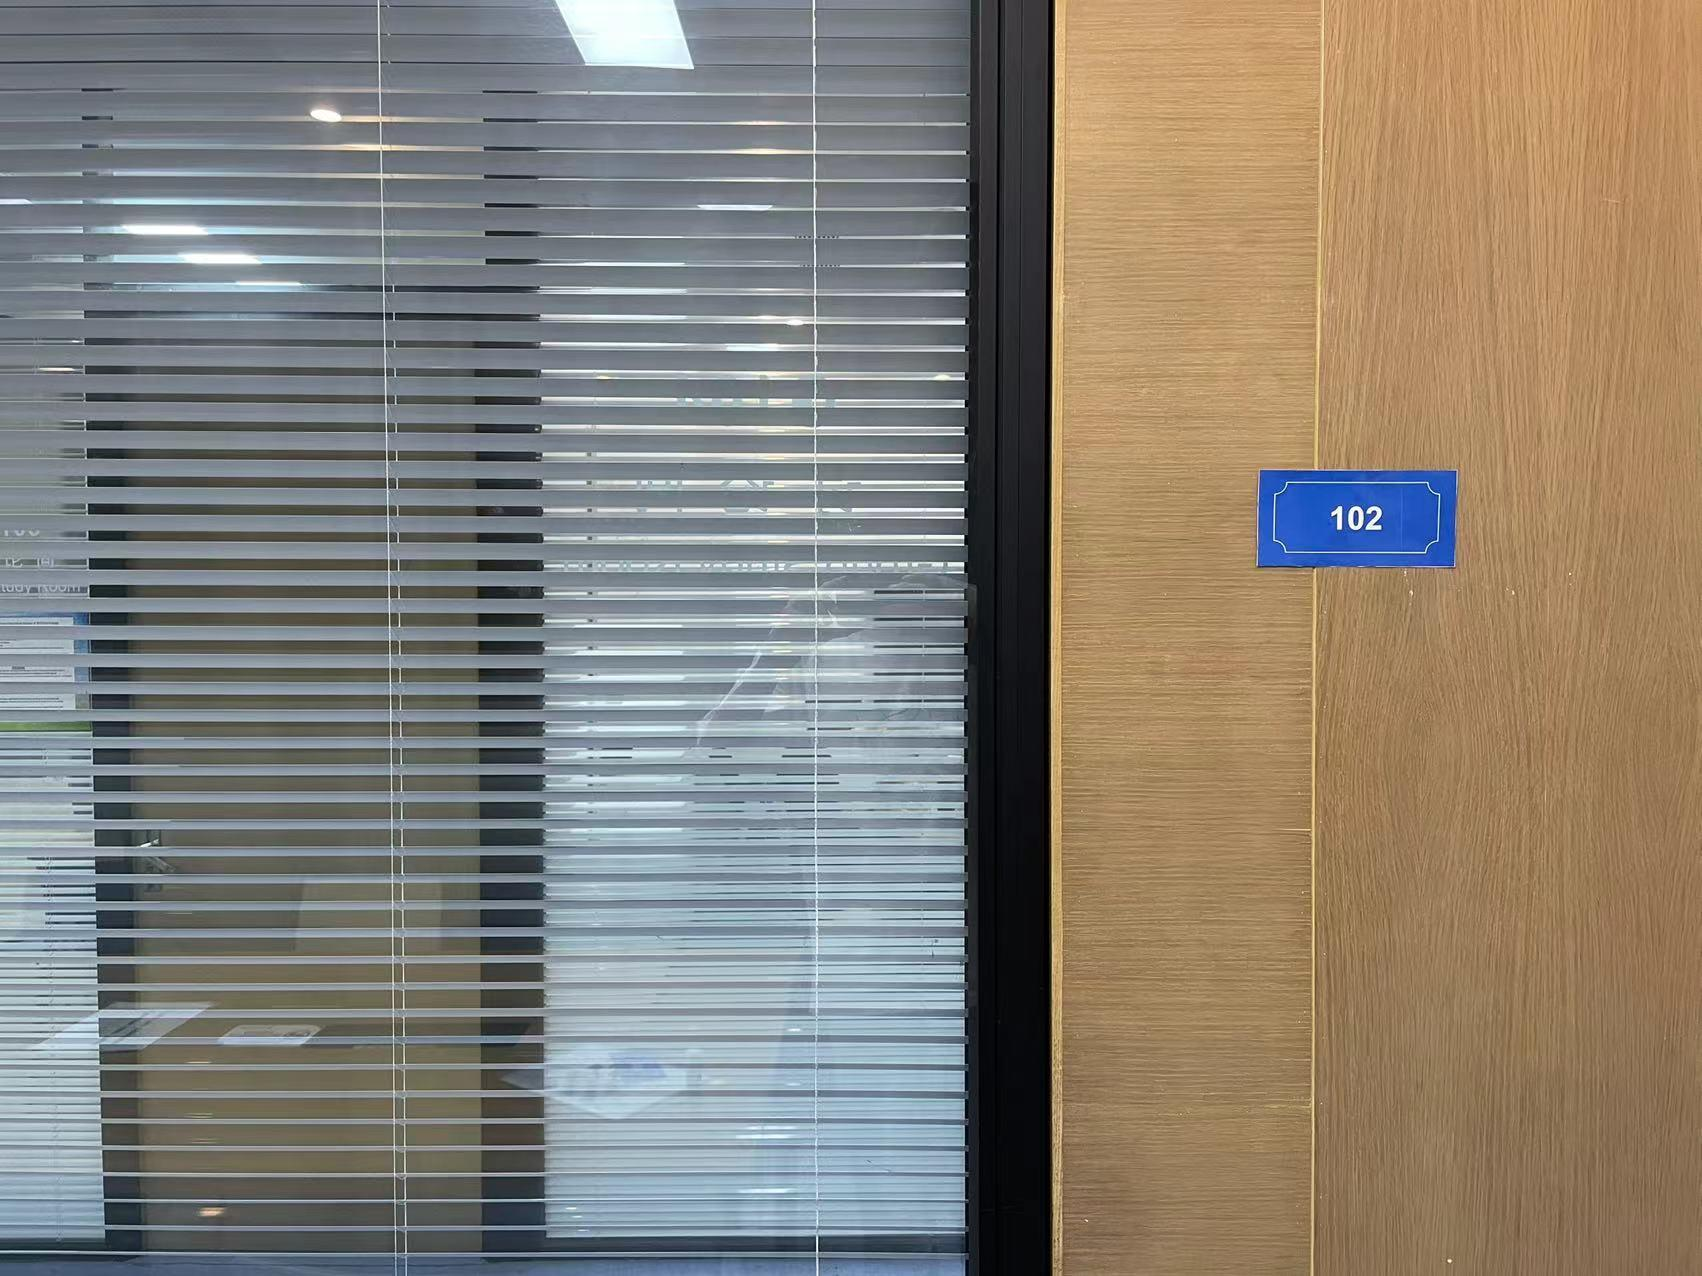Card: (1253, 448, 1476, 578)
